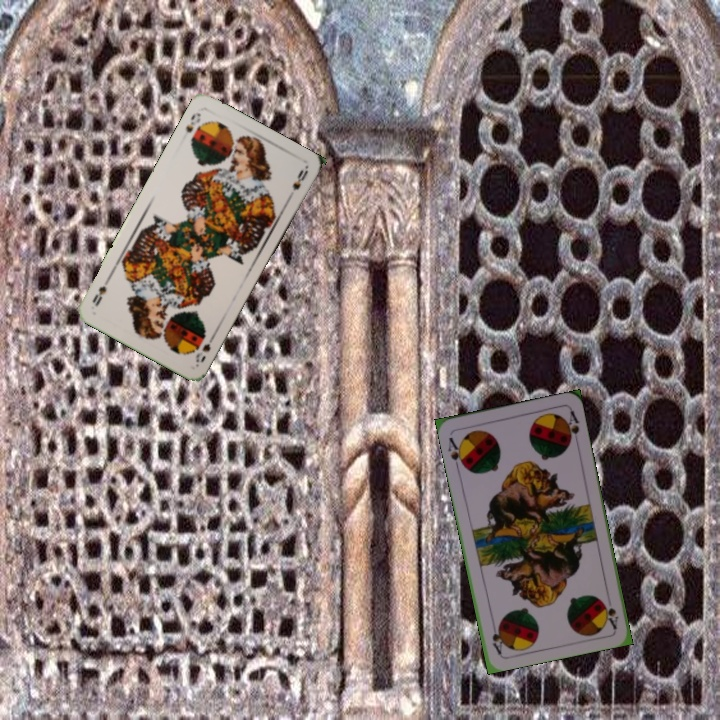SA: (444, 433, 468, 471), (599, 597, 621, 631)
SO: (191, 329, 218, 365), (182, 108, 203, 136)
